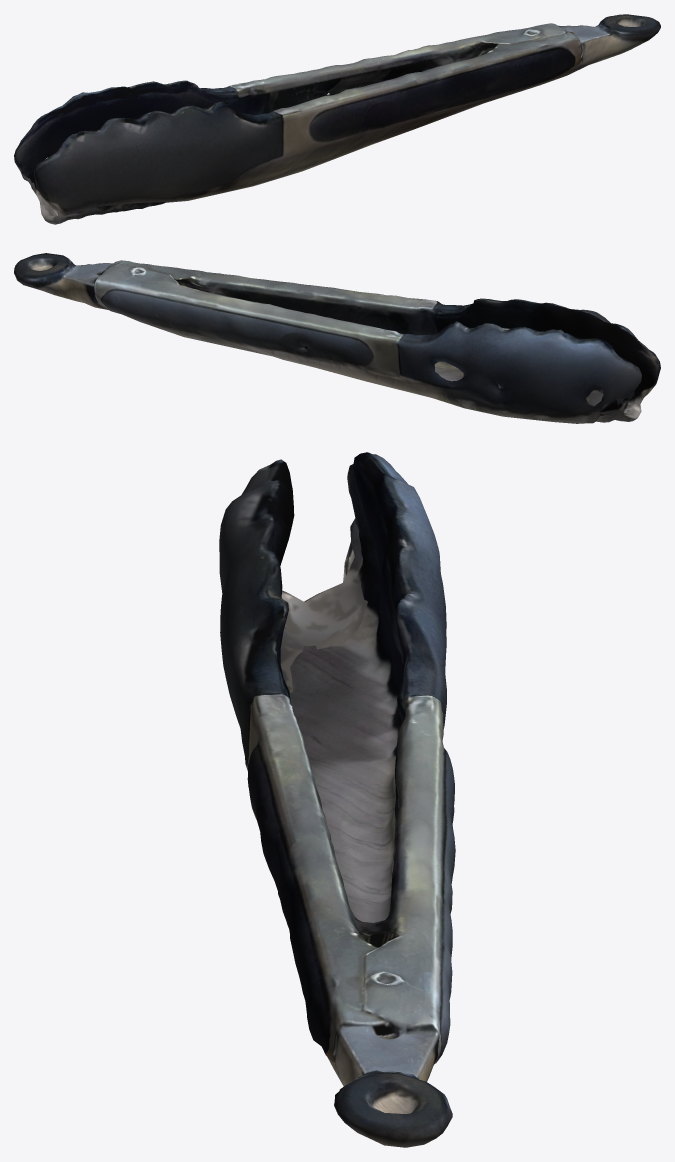
The model's file is gripper.obj.
3 views of the same model, one above another, from view 1: azimuth 30°, elevation 25°; view 2: azimuth 150°, elevation 25°; view 3: azimuth 270°, elevation 25° (orthographic). The views are drawn at different scales.
Parts seen in each view (by area): view 1: mesh_0; view 2: mesh_0; view 3: mesh_0.
Part boxes in pixels (bbox=[...]): mesh_0: bbox=[14, 14, 660, 224]; mesh_0: bbox=[14, 253, 660, 423]; mesh_0: bbox=[219, 452, 455, 1147].
Size of the model in its own units: 0.2667 by 0.0421 by 0.0444.
1 material, 1 textured.
